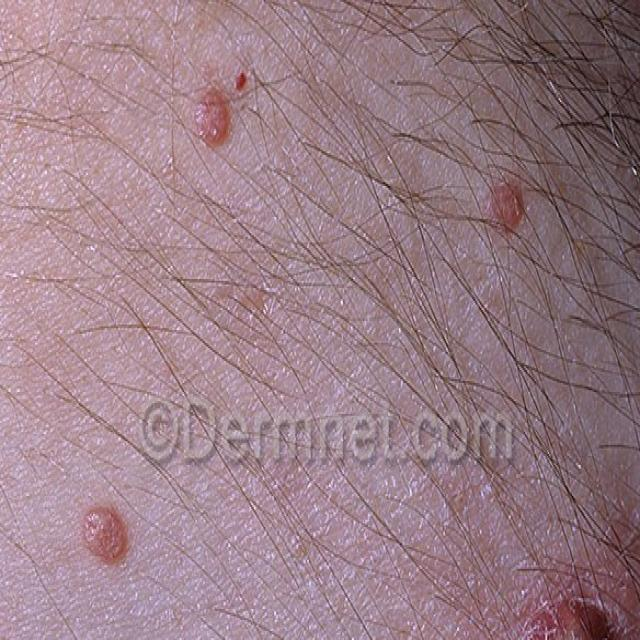Viral Infections: (71, 491, 148, 589), (514, 580, 630, 640), (200, 74, 249, 170), (479, 158, 530, 249)
